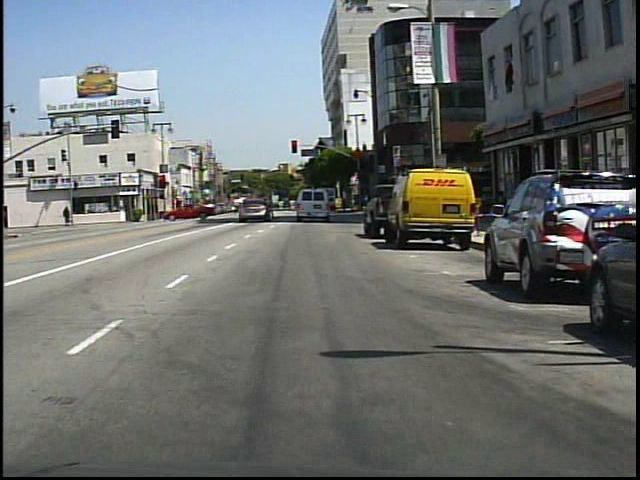person: (264, 193, 281, 223), (62, 205, 71, 225), (500, 184, 501, 226)
